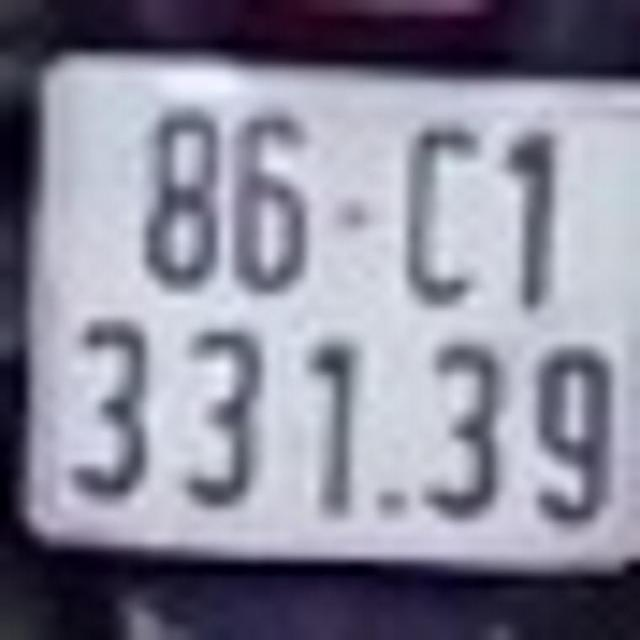1: (495, 118, 563, 310), (297, 334, 359, 516)
3: (172, 320, 264, 515), (72, 308, 155, 503), (424, 335, 501, 515)
6: (228, 102, 312, 294)
8: (140, 91, 223, 288)
9: (526, 338, 614, 519)
C: (397, 115, 486, 311)
